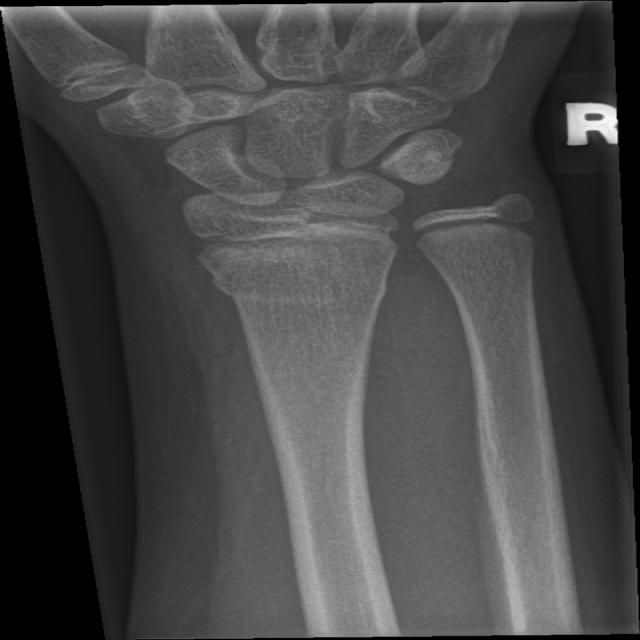radius fracture: (179, 241, 326, 396)
